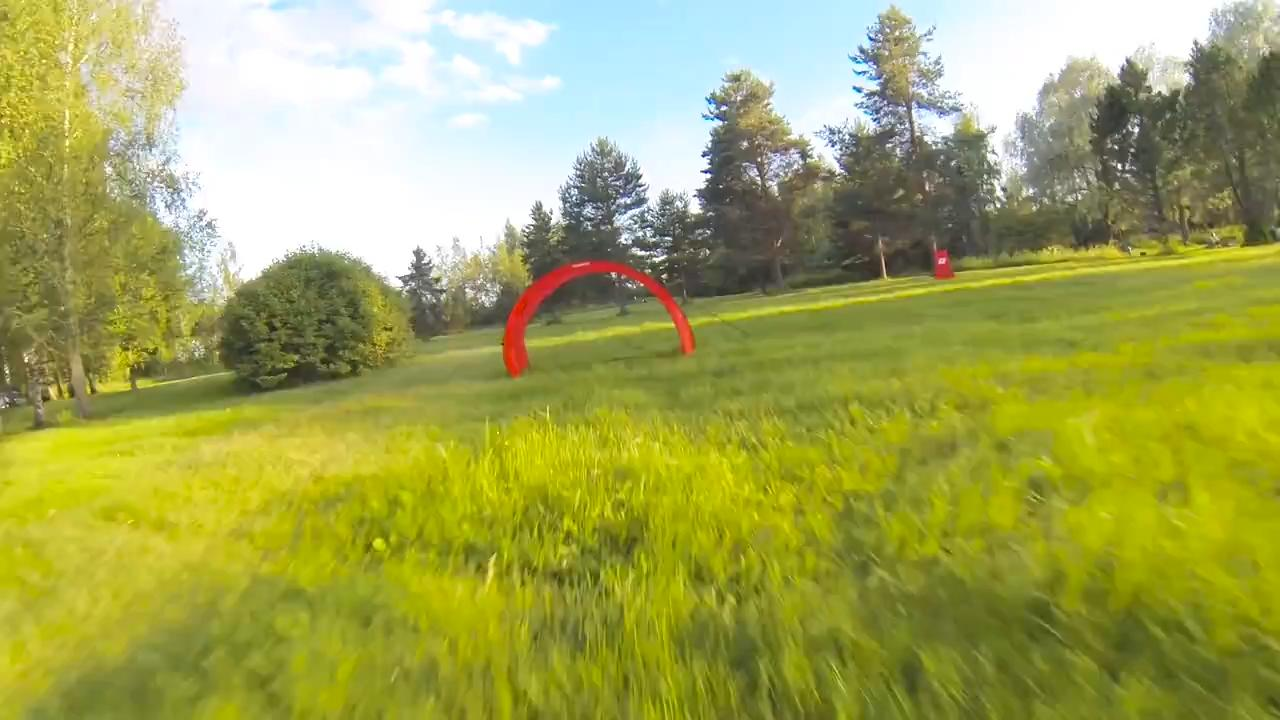gate: (497, 258, 700, 375)
